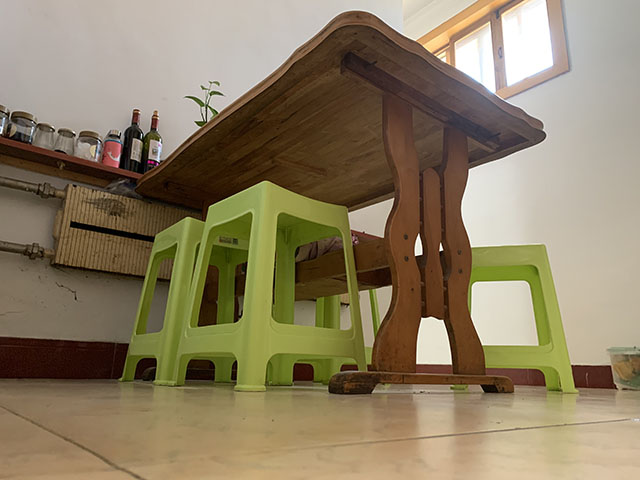stool: (116, 179, 368, 394), (450, 242, 579, 394)
table: (131, 9, 547, 397)
